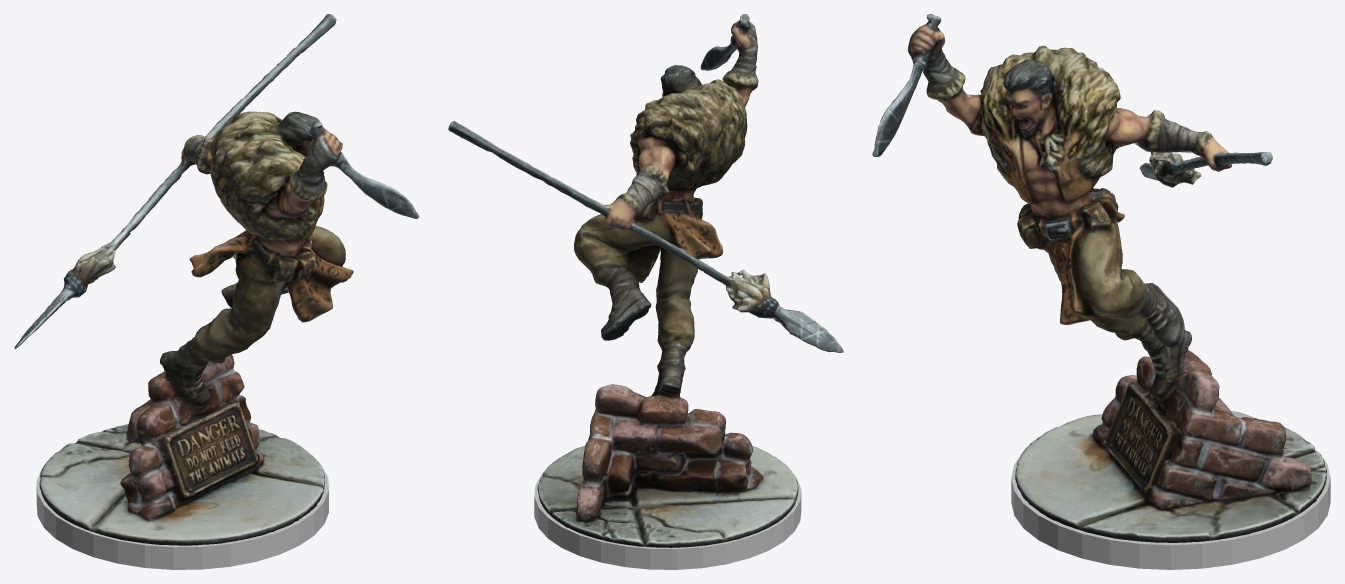
3 views of the same model, side by side, from view 1: azimuth 30°, elevation 25°; view 2: azimuth 150°, elevation 25°; view 3: azimuth 270°, elevation 25° (orthographic). The views are drawn at different scales.
Visible parts, largest first — view 1: Kraven, default; view 2: Kraven, default; view 3: Kraven, default.
Part boxes in pixels (x1=…): Kraven: x1=14, y1=14, x2=419, y2=545; default: x1=36, y1=464, x2=328, y2=569; Kraven: x1=448, y1=14, x2=843, y2=547; default: x1=534, y1=473, x2=801, y2=569; Kraven: x1=872, y1=14, x2=1326, y2=542; default: x1=1011, y1=449, x2=1330, y2=569.
Size of the model in its own units: 2.04 by 2.38 by 1.97.
Materials: 2 (1 with a texture image).
